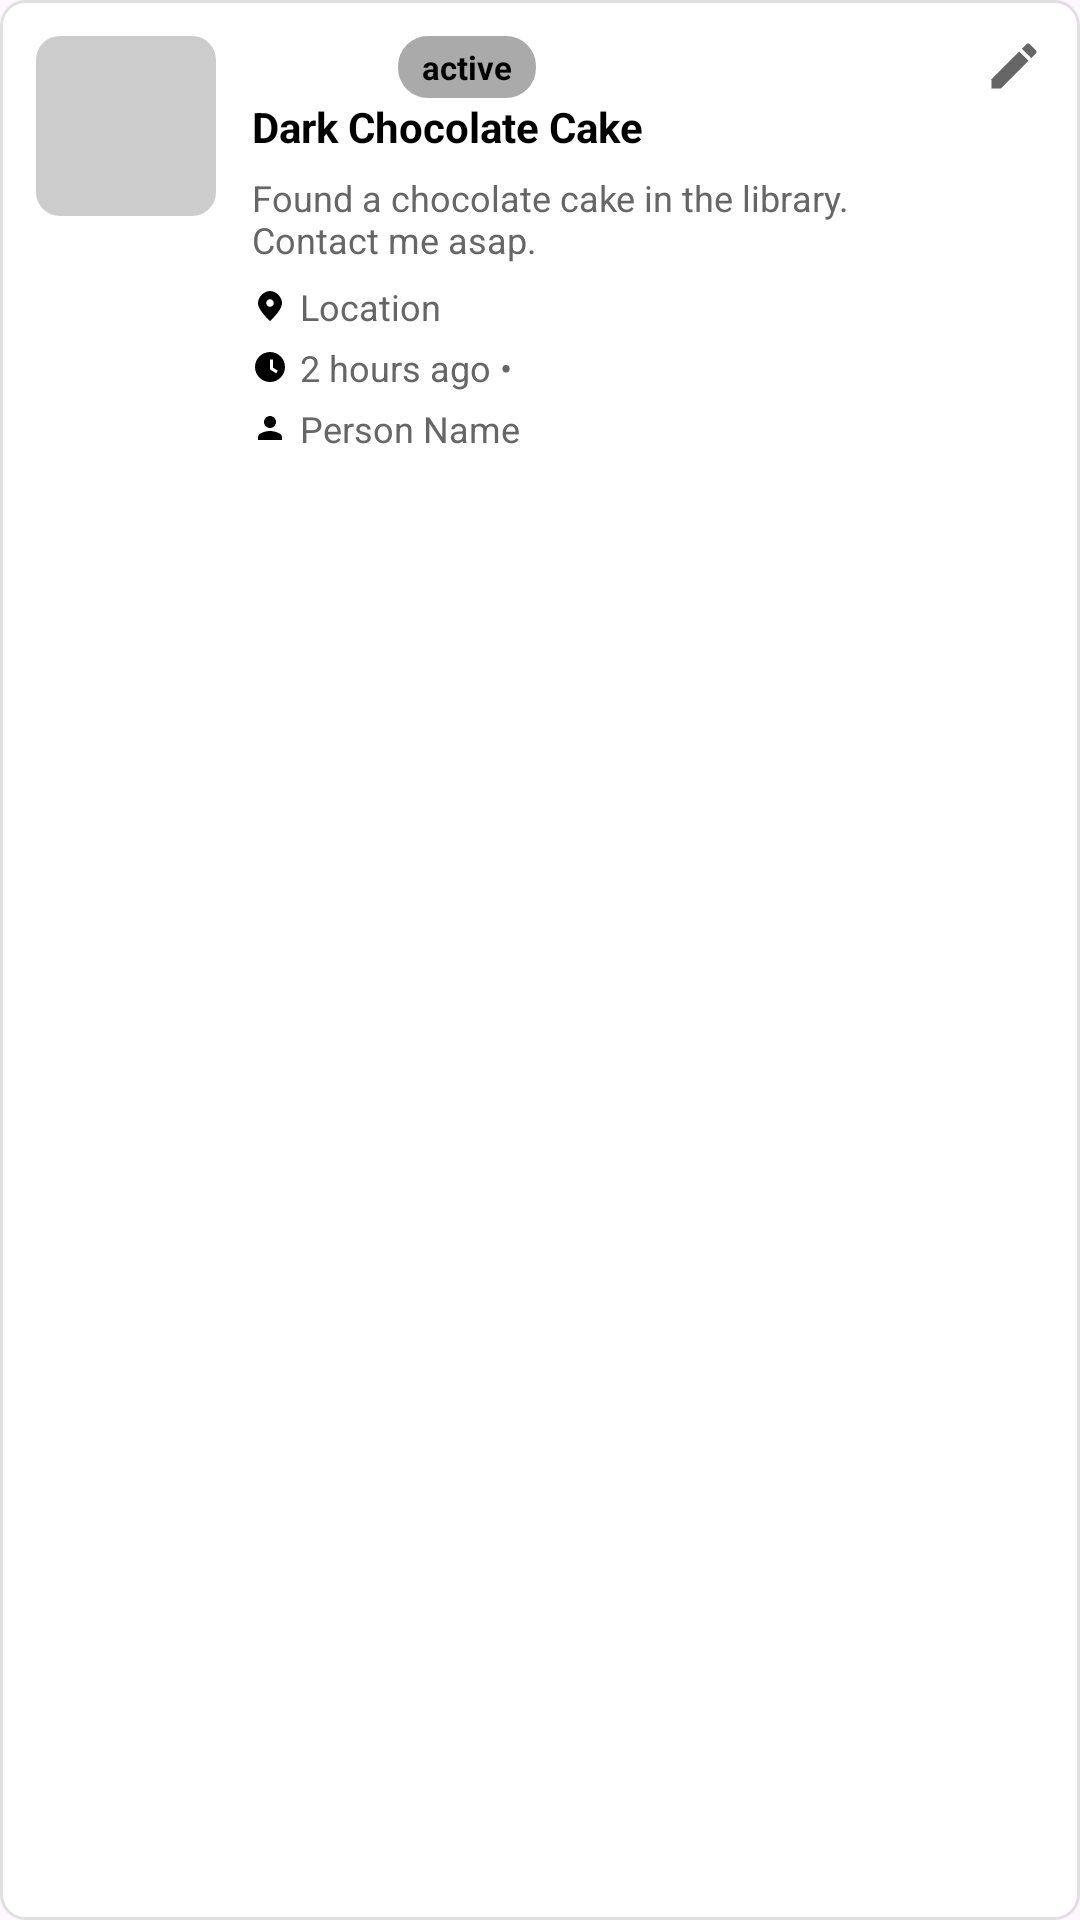

Screen size 1080px x 1920px. Icon name, then its box in pixels as box=[x1, y1, x2, y2]:
Edit Item: box=[991, 43, 1037, 89]
Time: box=[255, 352, 285, 382]
